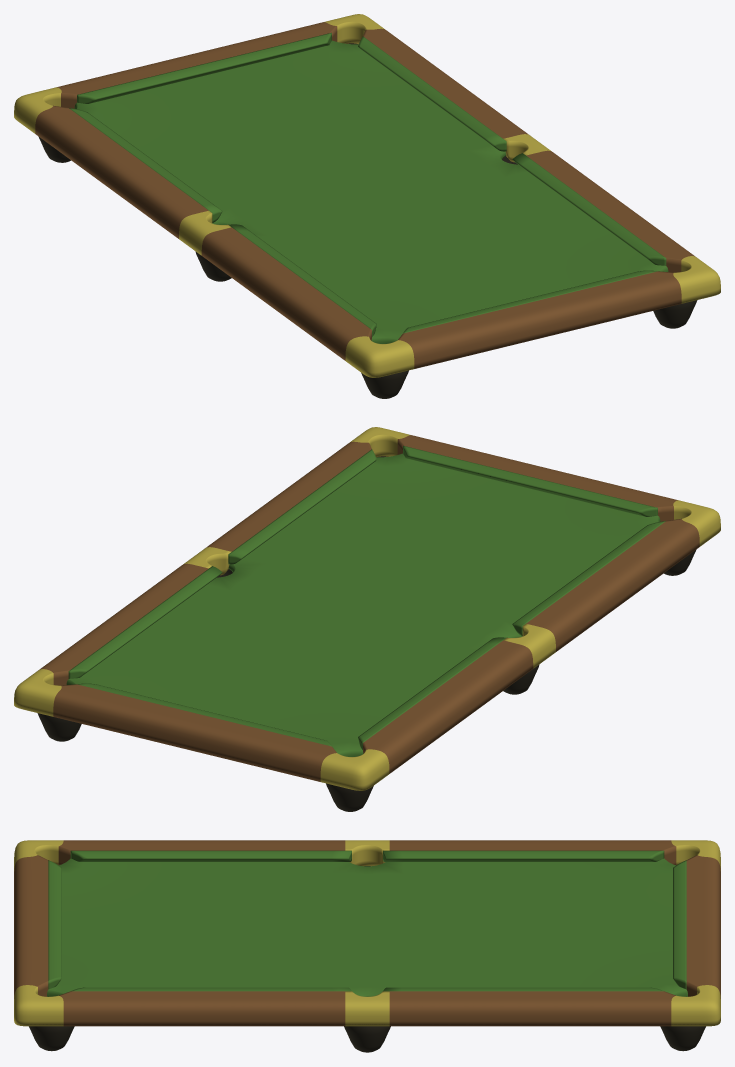
The model's file is PoolTable_Chinese.fbx.
3 views of the same model, one above another, from view 1: azimuth 30°, elevation 25°; view 2: azimuth 150°, elevation 25°; view 3: azimuth 270°, elevation 25° (orthographic). The views are drawn at different scales.
Visible parts, largest first — view 1: PoolSet_Surface, PoolSet_Border, PoolSet_Bumper, PoolSet_Corner Edges, PoolSet_Side Edges, PoolSet_Pocket.005, PoolSet_Pocket.004; view 2: PoolSet_Surface, PoolSet_Border, PoolSet_Bumper, PoolSet_Corner Edges, PoolSet_Side Edges, PoolSet_Pocket.002, PoolSet_Pocket.001; view 3: PoolSet_Surface, PoolSet_Border, PoolSet_Bumper, PoolSet_Corner Edges, PoolSet_Side Edges, PoolSet_Pocket.003, PoolSet_Pocket.001, PoolSet_Pocket.004.
Boxes of the visible parts, x1,y1,x2,y2 form: PoolSet_Surface: (74,40,668,343); PoolSet_Border: (35,22,695,368); PoolSet_Bumper: (69,32,666,336); PoolSet_Corner Edges: (14,14,720,377); PoolSet_Side Edges: (179,134,551,255); PoolSet_Pocket.005: (361,370,408,398); PoolSet_Pocket.004: (653,300,697,328); PoolSet_Surface: (66,453,660,756); PoolSet_Border: (39,435,699,781); PoolSet_Bumper: (68,445,665,749); PoolSet_Corner Edges: (14,427,720,790); PoolSet_Side Edges: (183,547,555,668); PoolSet_Pocket.002: (326,783,373,811); PoolSet_Pocket.001: (37,713,81,741); PoolSet_Surface: (47,858,687,996); PoolSet_Border: (14,840,720,1026); PoolSet_Bumper: (48,850,686,991); PoolSet_Corner Edges: (14,840,720,1026); PoolSet_Side Edges: (345,840,389,1026); PoolSet_Pocket.003: (344,1026,390,1052); PoolSet_Pocket.001: (660,1026,705,1051); PoolSet_Pocket.004: (29,1026,74,1051).
Bounding box in the file's own units: 167 × 26.66 × 294.
